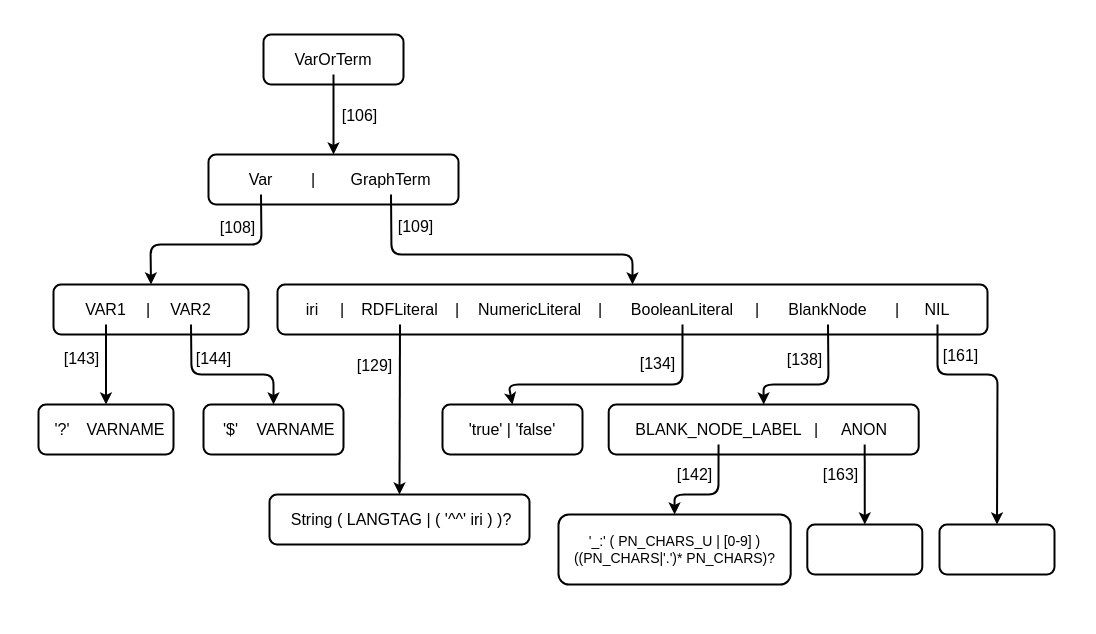
Image size: 1096x634. Some labels were removed from this diagram. Here are the shapes that lost their labels. From the top down, the centre of each, then its label:
At point 864,549: "'[' WS* ']'".
At point 996,549: "'(' WS* ')'".
